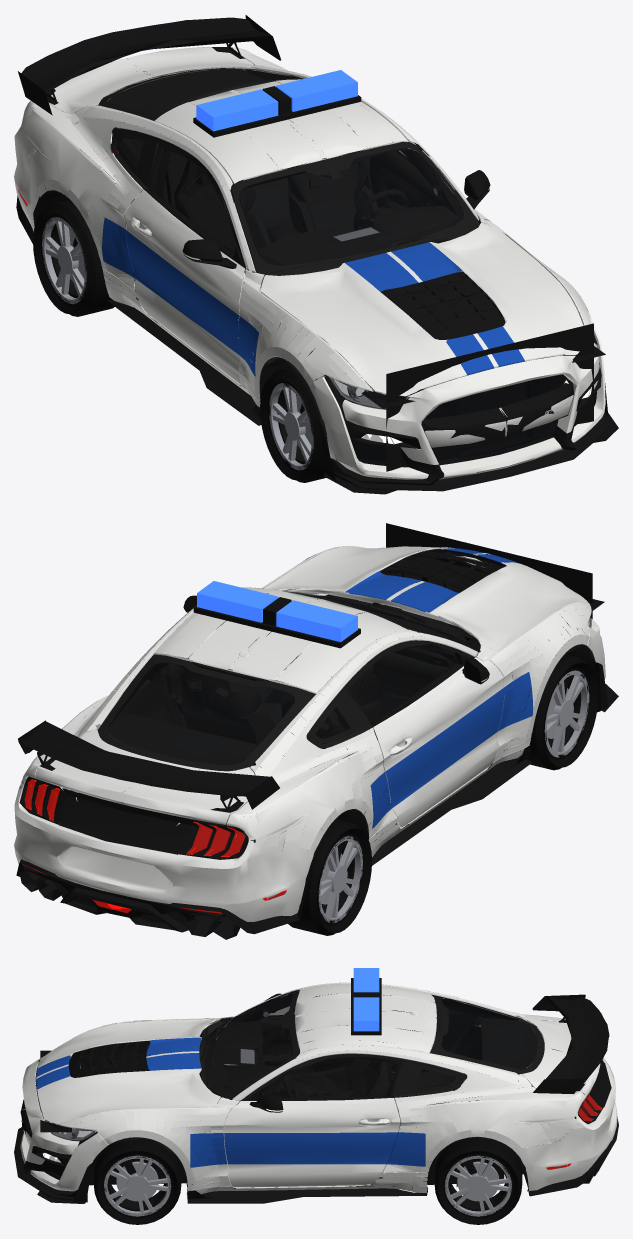
The picture shows the model from 3 angles, top to bottom: view 1: azimuth 30°, elevation 25°; view 2: azimuth 150°, elevation 25°; view 3: azimuth 270°, elevation 25°; orthographic projection. The views are drawn at different scales.
Visible parts, largest first — view 1: CAR_BODY, CAR_INTERIOR, CAR_GLASS, DOOR_FR, WHEEL_RR, LIGHTBAR_MESH, WHEEL_FR, DOOR_FL, STEERING_WHEEL; view 2: CAR_BODY, CAR_INTERIOR, DOOR_FR, CAR_GLASS, WHEEL_RR, LIGHTBAR_MESH, WHEEL_FR, DOOR_FL; view 3: CAR_BODY, DOOR_FL, CAR_INTERIOR, CAR_GLASS, WHEEL_RL, WHEEL_FL, DOOR_FR, LIGHTBAR_MESH, STEERING_WHEEL.
Part boxes in pixels (x1,y1,x2,y2): CAR_BODY: (14,15,618,494); CAR_INTERIOR: (98,67,480,364); CAR_GLASS: (18,69,597,466); DOOR_FR: (124,143,246,384); WHEEL_RR: (33,199,114,316); LIGHTBAR_MESH: (193,70,361,137); WHEEL_FR: (260,367,326,482); DOOR_FL: (369,139,490,220); STEERING_WHEEL: (353,189,409,230); CAR_BODY: (14,523,618,939); CAR_INTERIOR: (98,593,480,842); DOOR_FR: (347,645,504,827); CAR_GLASS: (23,591,591,926); WHEEL_RR: (288,819,371,935); LIGHTBAR_MESH: (193,581,360,648); WHEEL_FR: (521,654,598,770); DOOR_FL: (163,595,254,728); CAR_BODY: (14,982,618,1203); DOOR_FL: (224,1057,402,1187); CAR_INTERIOR: (199,990,544,1167); CAR_GLASS: (44,993,603,1179); WHEEL_RL: (434,1137,522,1224); WHEEL_FL: (94,1138,181,1224); DOOR_FR: (259,993,382,1087); LIGHTBAR_MESH: (351,968,381,1035); STEERING_WHEEL: (275,1074,299,1097).
Size of the model in its own units: 2.05 by 1.56 by 4.73.
